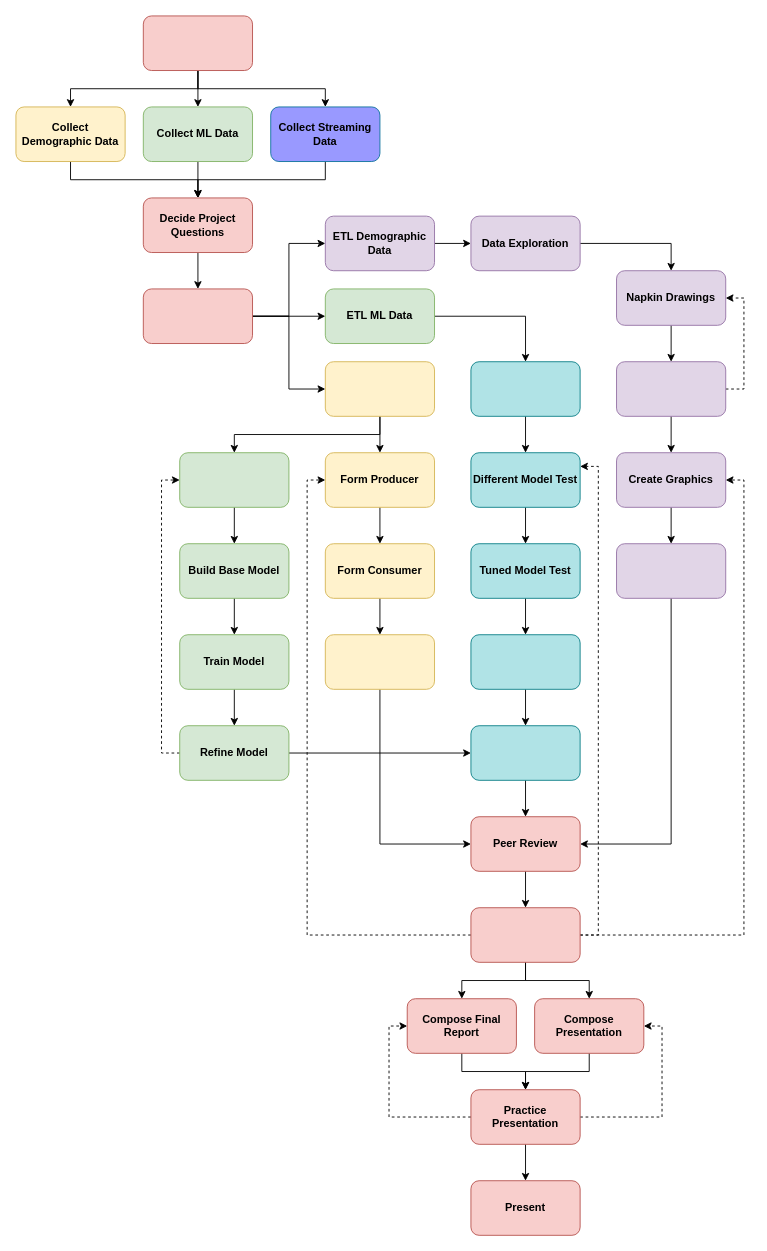
Image size: 767x1251. Some labels were removed from this diagram. Each missing label, with the box of its shape:
Data Visuals Dashboards: (324, 634, 435, 689)
Design Dashboards: (616, 543, 726, 598)
ETL Streaming Data: (324, 361, 435, 416)
Evaluation Graphics: (470, 725, 580, 780)
External Review: (470, 907, 580, 962)
Form Hypothesis: (142, 288, 253, 344)
Form Project Topics: (142, 15, 253, 71)
Pruning Test: (470, 634, 580, 689)
Research DL Models: (179, 452, 289, 507)
Review: (616, 361, 726, 416)
Train Baseline Model: (470, 361, 580, 416)
